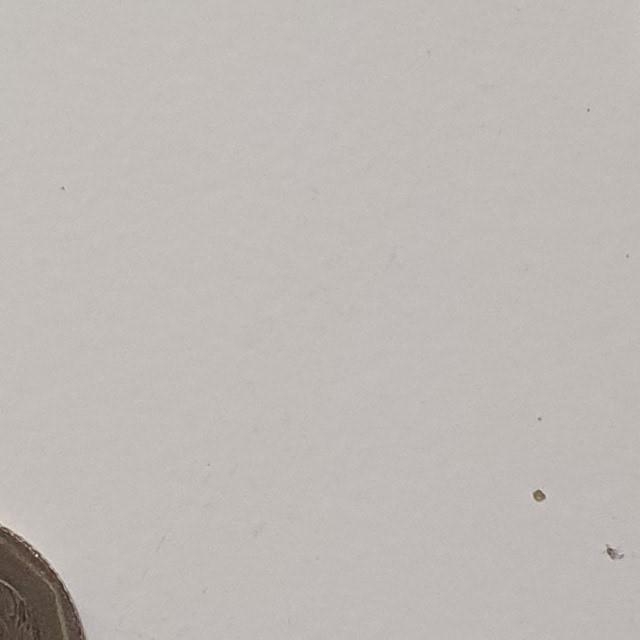5 Bath: (1, 507, 97, 640)
